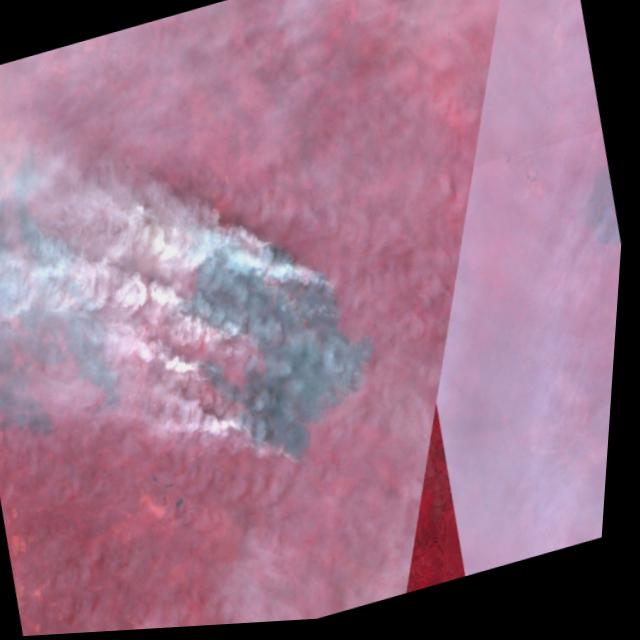fire: (143, 166, 418, 501)
